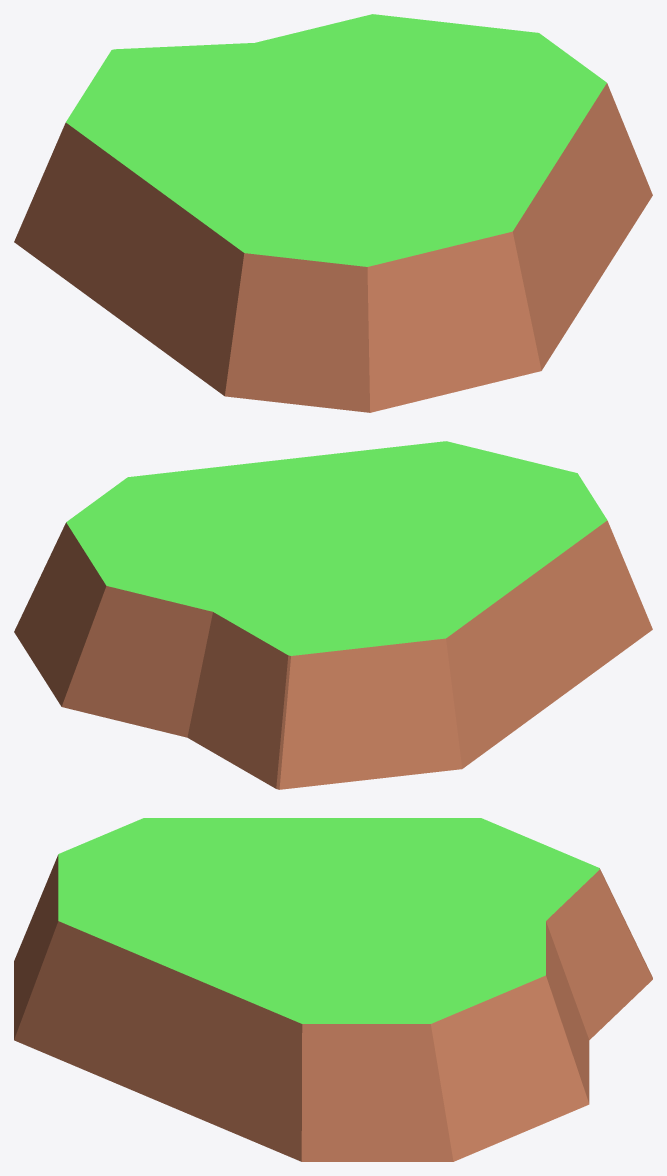
Rendered from Rock001.fbx.
The picture shows the model from 3 angles, top to bottom: view 1: azimuth 30°, elevation 25°; view 2: azimuth 150°, elevation 25°; view 3: azimuth 270°, elevation 25°; orthographic projection. The views are drawn at different scales.
Parts seen in each view (by area): view 1: Rock001; view 2: Rock001; view 3: Rock001.
Part boxes in pixels (x1,y1,x2,y2): Rock001: (14,14,652,412); Rock001: (14,441,652,789); Rock001: (14,818,652,1161).
Size of the model in its own units: 80.58 by 18.05 by 89.48.
